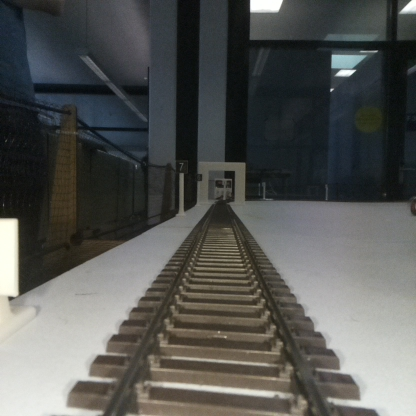black-info-7: (175, 160, 188, 216)
